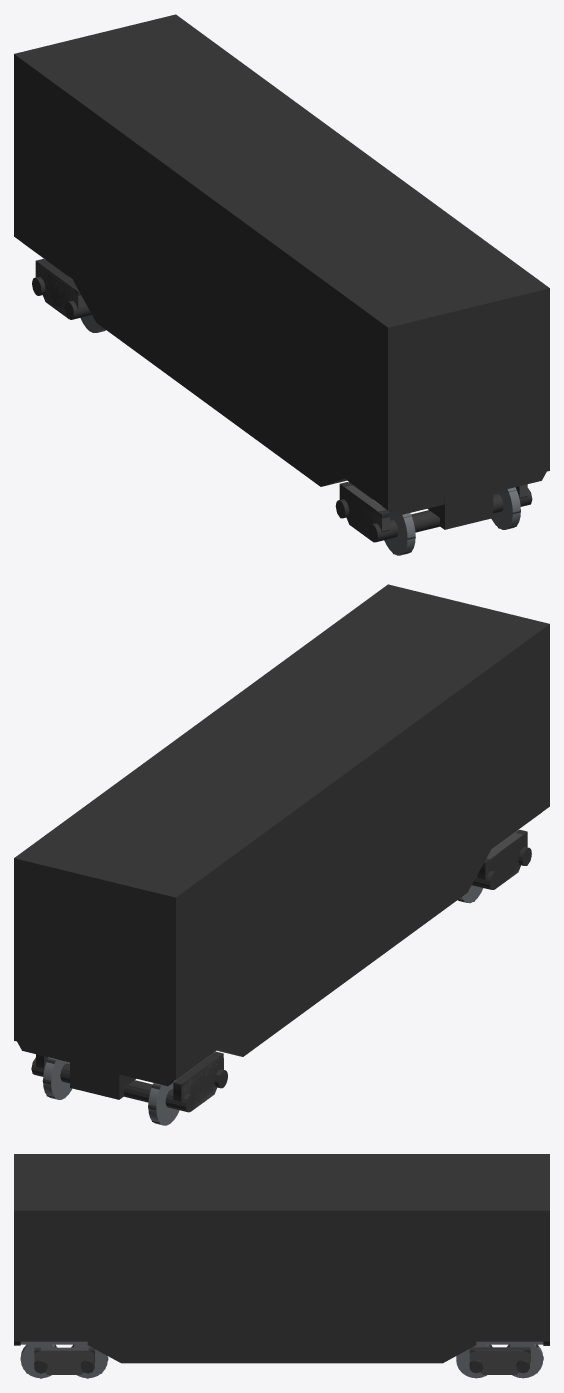
File: RedMetalMechMediumTrainCarriage1.fbx
3 renders of one model, top to bottom at view 1: azimuth 30°, elevation 25°; view 2: azimuth 150°, elevation 25°; view 3: azimuth 270°, elevation 25°, orthographic. The views are drawn at different scales.
Visible parts, largest first — view 1: COLObject4, RedMetalMechMediumTrainCarriage1, COLObject1, COLObject3, COLObject13, COLObject15; view 2: COLObject4, RedMetalMechMediumTrainCarriage1, COLObject1, COLObject2, COLObject13, COLObject15; view 3: COLObject4, RedMetalMechMediumTrainCarriage1, COLObject1.
Boxes of the visible parts, <box> form: COLObject4: <box>14,14,549,510</box>; RedMetalMechMediumTrainCarriage1: <box>14,223,546,555</box>; COLObject1: <box>73,280,346,486</box>; COLObject3: <box>444,485,493,529</box>; COLObject13: <box>35,258,80,312</box>; COLObject15: <box>339,482,389,540</box>; COLObject4: <box>14,584,549,1080</box>; RedMetalMechMediumTrainCarriage1: <box>17,793,549,1125</box>; COLObject1: <box>217,850,490,1056</box>; COLObject2: <box>70,1054,118,1099</box>; COLObject13: <box>173,1051,223,1109</box>; COLObject15: <box>477,829,527,889</box>; COLObject4: <box>14,1154,549,1341</box>; RedMetalMechMediumTrainCarriage1: <box>14,1332,549,1378</box>; COLObject1: <box>87,1341,476,1363</box>.
Size of the model in its own units: 200 by 291 by 800.
Materials: 4 (1 with a texture image).
